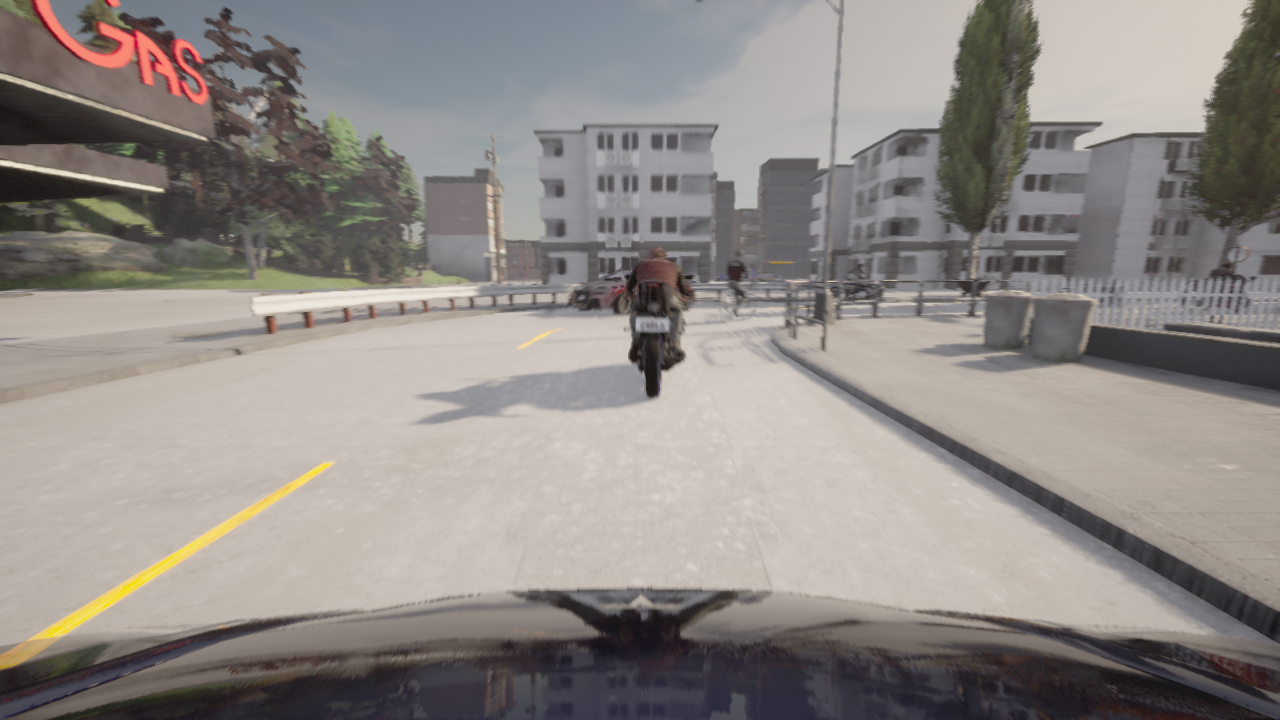cyclist: (0, 588, 1279, 719), (625, 274, 694, 397), (567, 268, 695, 314), (1182, 275, 1255, 311), (828, 270, 883, 303), (720, 277, 756, 323), (715, 269, 756, 281), (751, 271, 785, 281), (752, 278, 772, 279)
